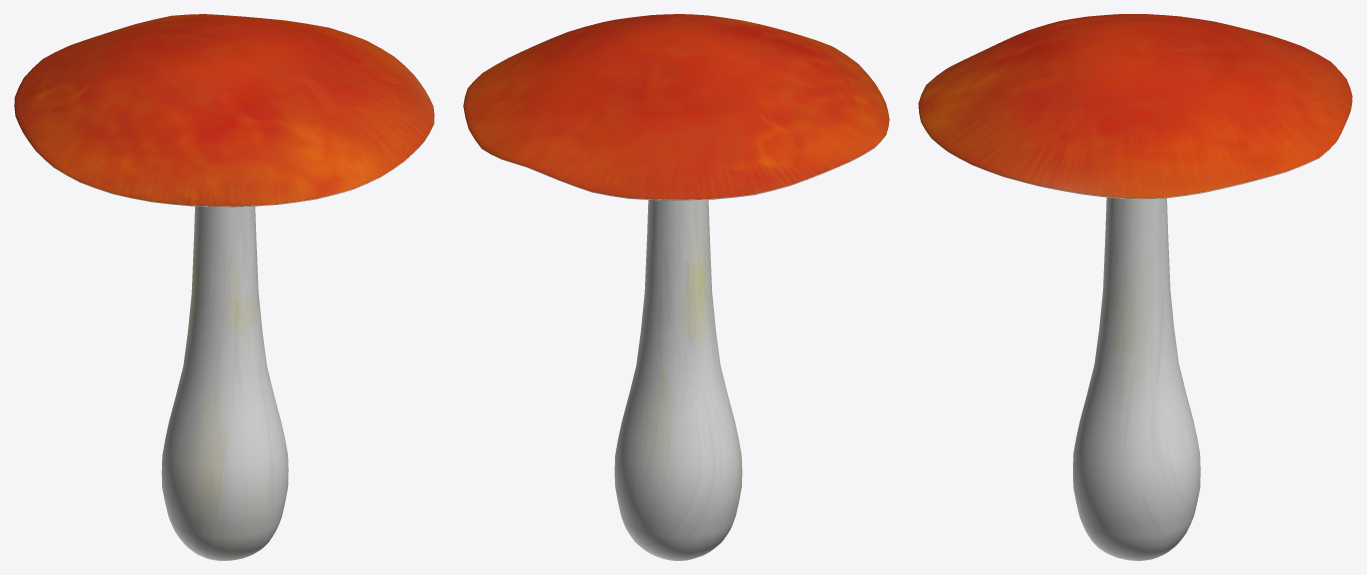
Rendered from Fly-agaric_1.fbx.
3 renders of one model, left to right at view 1: azimuth 30°, elevation 25°; view 2: azimuth 150°, elevation 25°; view 3: azimuth 270°, elevation 25°, orthographic.
Parts seen in each view (by area): view 1: fly_agaric_obj1:objdefault; view 2: fly_agaric_obj1:objdefault; view 3: fly_agaric_obj1:objdefault.
Boxes of the visible parts, bbox=[...] form: fly_agaric_obj1:objdefault: bbox=[14, 14, 434, 560]; fly_agaric_obj1:objdefault: bbox=[463, 14, 889, 560]; fly_agaric_obj1:objdefault: bbox=[918, 14, 1352, 560].
Bounding box in the file's own units: 82.5 × 109 × 83.94.
